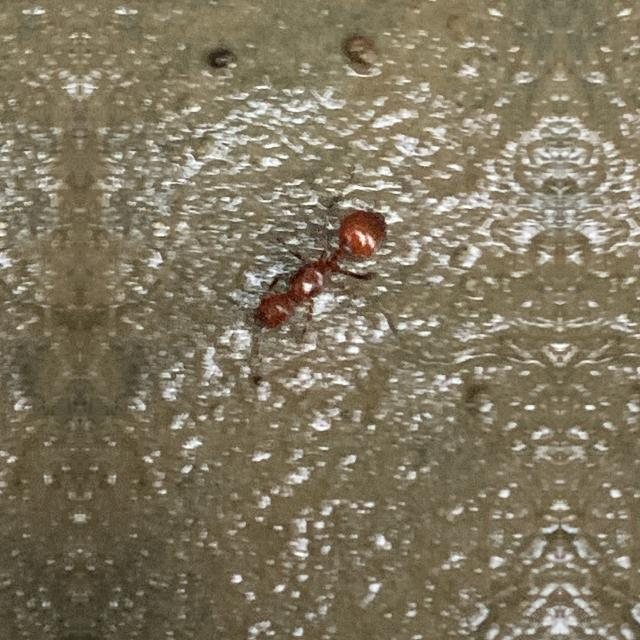Apheanogaster: (232, 178, 404, 360)
